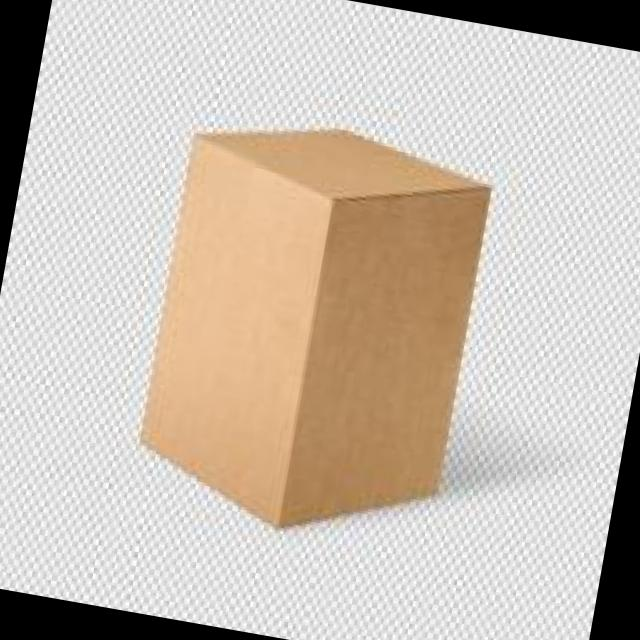box: (136, 130, 490, 533)
